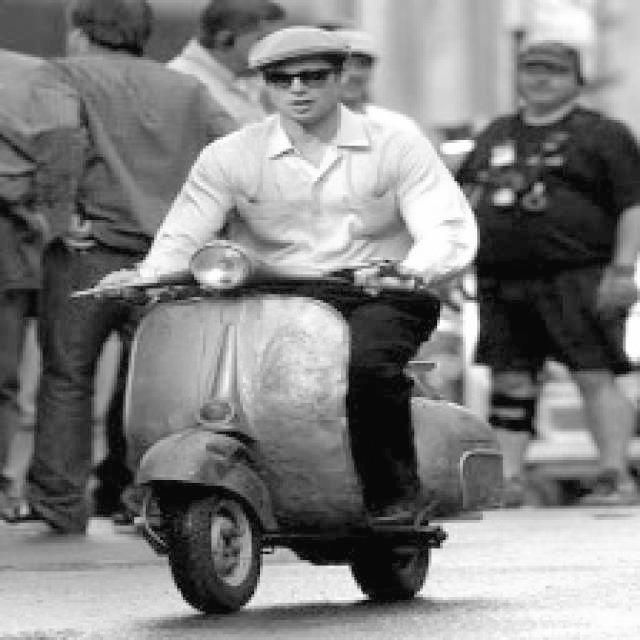Bike: (62, 265, 502, 639)
